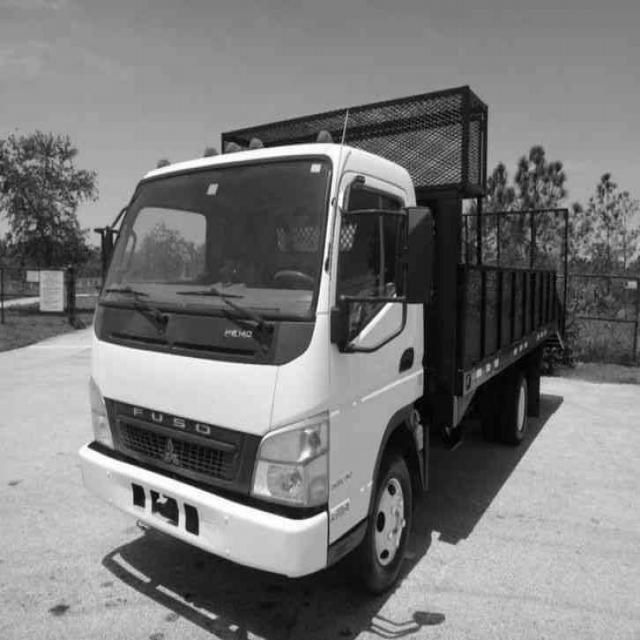truck: (64, 102, 468, 605)
